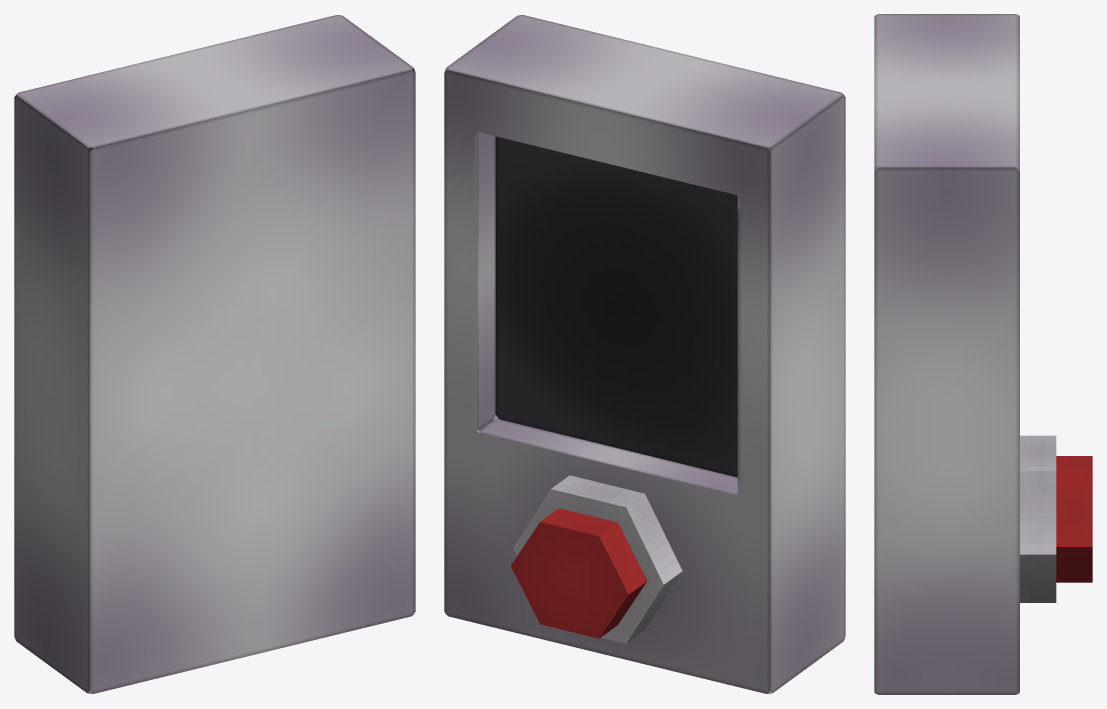
The picture shows the model from 3 angles, left to right: view 1: azimuth 30°, elevation 25°; view 2: azimuth 150°, elevation 25°; view 3: azimuth 270°, elevation 25°; orthographic projection. The views are drawn at different scales.
Visible parts, largest first — view 1: cuboid; view 2: cuboid, cylinder_1, cylinder; view 3: cuboid, cylinder, cylinder_1.
Boxes of the visible parts, x1=… form: cuboid: x1=14, y1=15, x2=415, y2=693; cuboid: x1=444, y1=15, x2=845, y2=693; cylinder_1: x1=511, y1=508, x2=647, y2=638; cylinder: x1=513, y1=475, x2=682, y2=643; cuboid: x1=874, y1=14, x2=1019, y2=694; cylinder: x1=1020, y1=435, x2=1056, y2=602; cylinder_1: x1=1056, y1=456, x2=1092, y2=582.
Bounding box in the file's own units: 62.5 × 100 × 37.5.
Materials: 3 (3 with a texture image).
